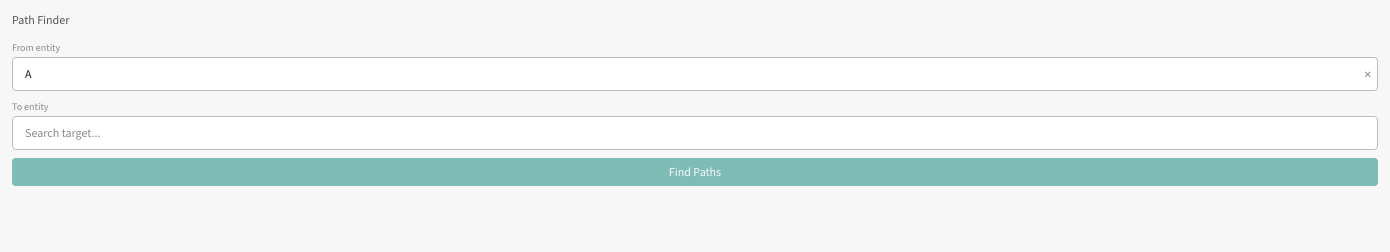
it: PathFinder target list › offers a target reachable only through a parameterised function
Focus the dropdown with placeholder "Search target..." at (695, 133), box [12,116,1378,150]
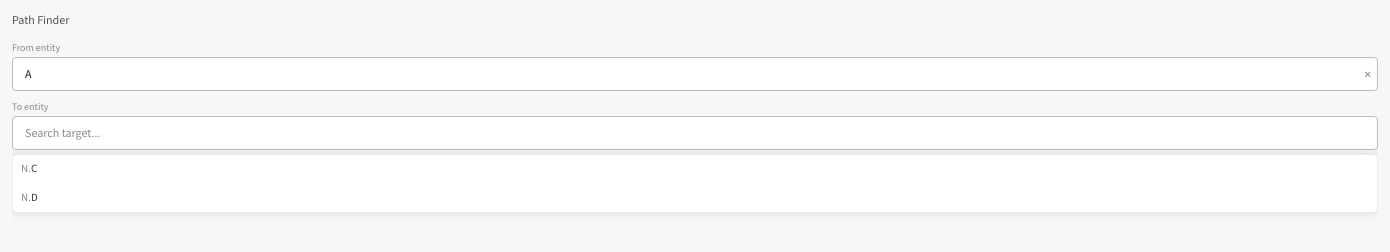
Press the mouse on the option "N.D" at (25, 197), box [13,184,1377,212]
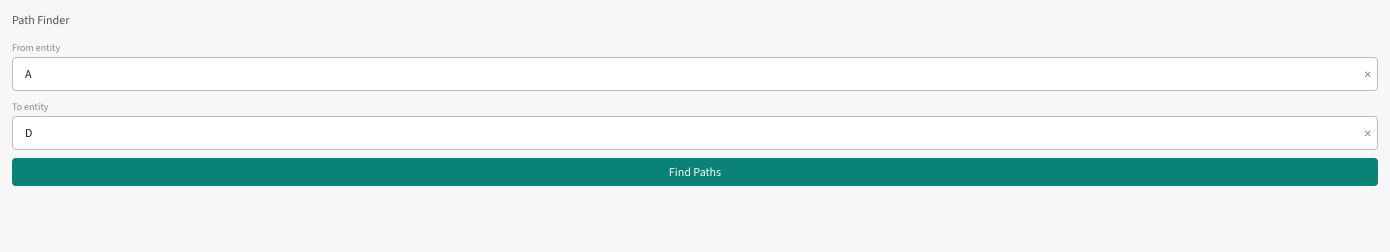
Click the button "Find Paths" at (695, 172), box [12,158,1378,186]
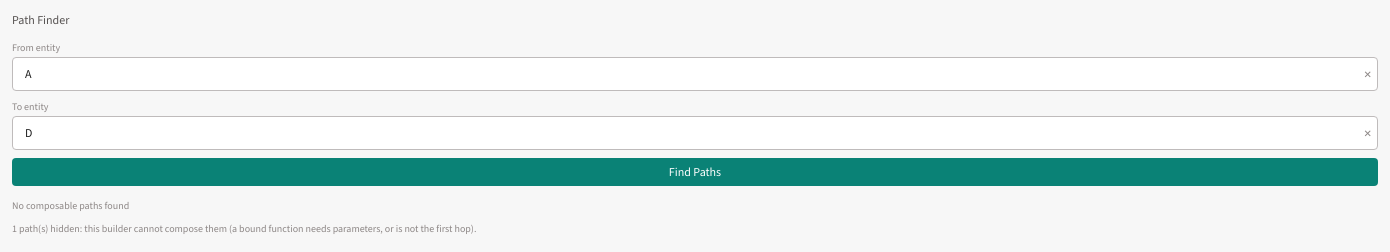
Check: the text "No composable paths found" is shown, box [12,199,129,212]
Check: the text "1 path(s) hidden" is shown, box [12,222,476,235]
